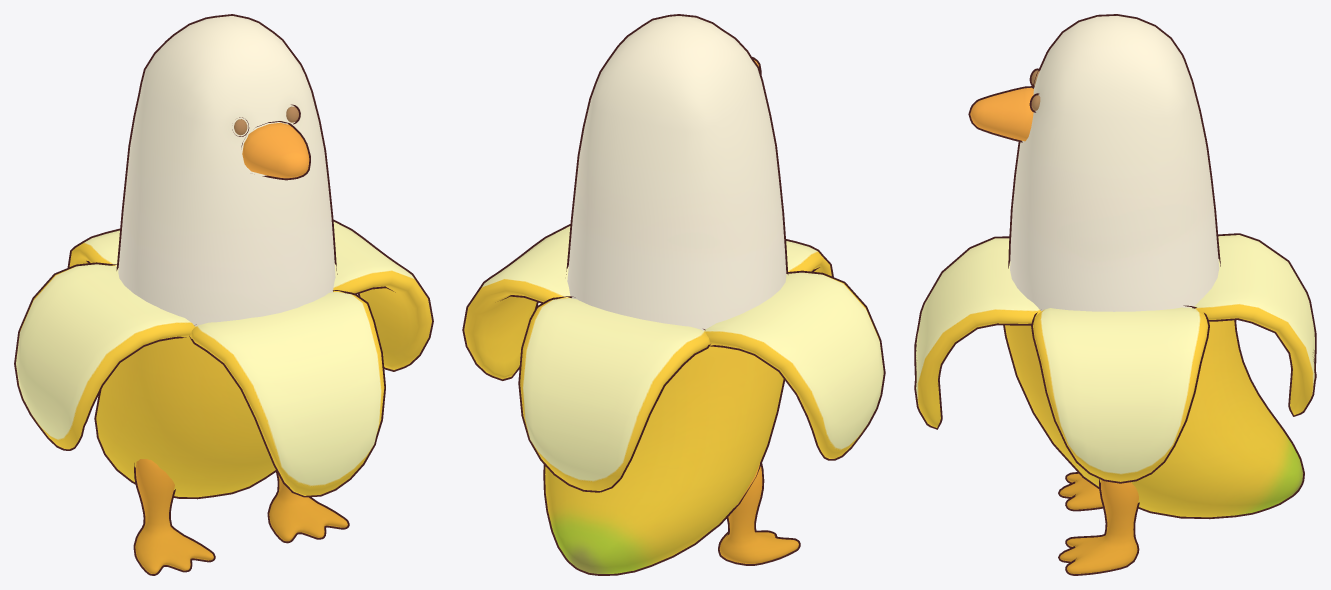
The model's file is banana_duck_meme.glb.
3 renders of one model, left to right at view 1: azimuth 30°, elevation 25°; view 2: azimuth 150°, elevation 25°; view 3: azimuth 270°, elevation 25°, orthographic. The views are drawn at different scales.
Visible parts, largest first — view 1: 11_bananapeel_4_0; view 2: 11_bananapeel_4_0; view 3: 11_bananapeel_4_0.
Boxes of the visible parts, x1,y1,x2,y2 form: 11_bananapeel_4_0: (14,14,433,575); 11_bananapeel_4_0: (462,14,885,575); 11_bananapeel_4_0: (914,14,1316,575).
Size of the model in its own units: 2.28 by 3.08 by 2.21.
2 materials, 1 textured.
